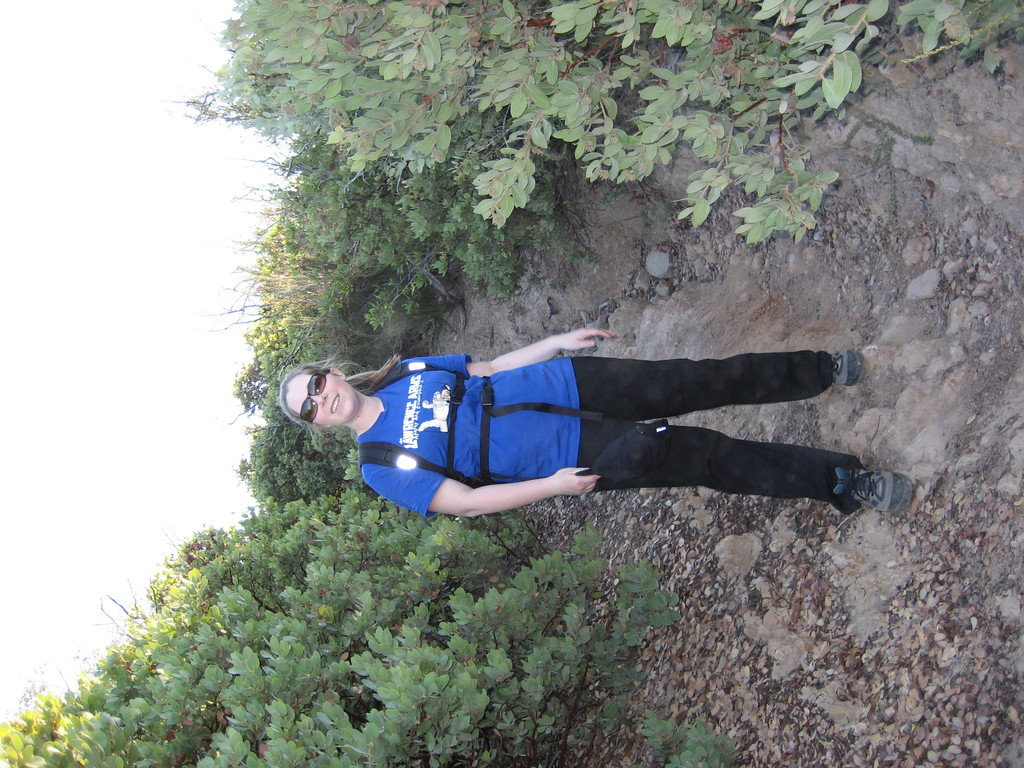person: (281, 325, 617, 518)
